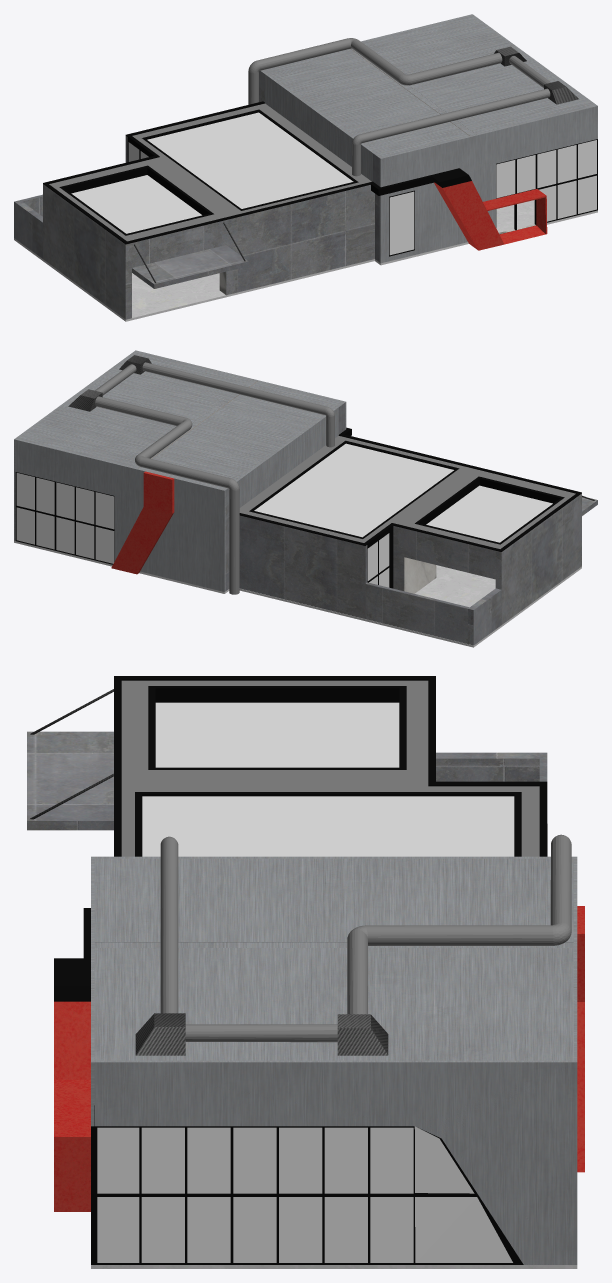
File: uploads_files_4069278_cardealer 1.fbx
The picture shows the model from 3 angles, top to bottom: view 1: azimuth 30°, elevation 25°; view 2: azimuth 150°, elevation 25°; view 3: azimuth 270°, elevation 25°; orthographic projection. The views are drawn at different scales.
Visible parts, largest first — view 1: windows, garage, roof, wall_front, pipes, grey, floor, details.001, black.007, black.002, carbon.001, details.002 (+2 smaller); view 2: garage, windows, roof, wall_back, pipes, grey, floor, details, leather, black.007, wall_side, carbon.002 (+1 smaller); view 3: windows, roof, wall_side, grey, pipes, garage, details.001, details, carbon.002, carbon.001, floor, black.008 (+5 smaller).
Boxes of the visible parts, bbox=[...] form: windows: bbox=[59, 109, 597, 256]; garage: bbox=[14, 71, 379, 319]; roof: bbox=[260, 15, 594, 181]; wall_front: bbox=[379, 105, 597, 263]; pipes: bbox=[248, 38, 550, 176]; grey: bbox=[49, 103, 371, 241]; floor: bbox=[14, 200, 597, 321]; details.001: bbox=[434, 181, 547, 250]; black.007: bbox=[124, 181, 374, 244]; black.002: bbox=[377, 168, 460, 195]; carbon.001: bbox=[544, 81, 578, 104]; details.002: bbox=[499, 225, 545, 244]; garage: bbox=[225, 403, 597, 645]; windows: bbox=[15, 440, 564, 588]; roof: bbox=[17, 351, 344, 507]; wall_back: bbox=[15, 439, 225, 591]; pipes: bbox=[95, 362, 334, 594]; grey: bbox=[239, 436, 575, 548]; floor: bbox=[14, 541, 581, 647]; details: bbox=[111, 471, 174, 574]; leather: bbox=[404, 557, 436, 593]; black.007: bbox=[338, 433, 581, 494]; wall_side: bbox=[14, 351, 135, 540]; carbon.002: bbox=[68, 389, 102, 411]; windows: bbox=[91, 686, 523, 1264]; roof: bbox=[94, 856, 573, 1060]; wall_side: bbox=[94, 1060, 577, 1264]; grey: bbox=[121, 680, 539, 856]; pipes: bbox=[160, 834, 571, 1042]; garage: bbox=[27, 731, 547, 830]; details.001: bbox=[54, 1001, 90, 1211]; details: bbox=[577, 906, 584, 1172]; carbon.002: bbox=[337, 1014, 388, 1055]; carbon.001: bbox=[135, 1013, 185, 1055]; floor: bbox=[91, 823, 577, 1268]; black.008: bbox=[121, 676, 435, 680].
Bounding box in the file's own units: 3113 × 749 × 1663.
